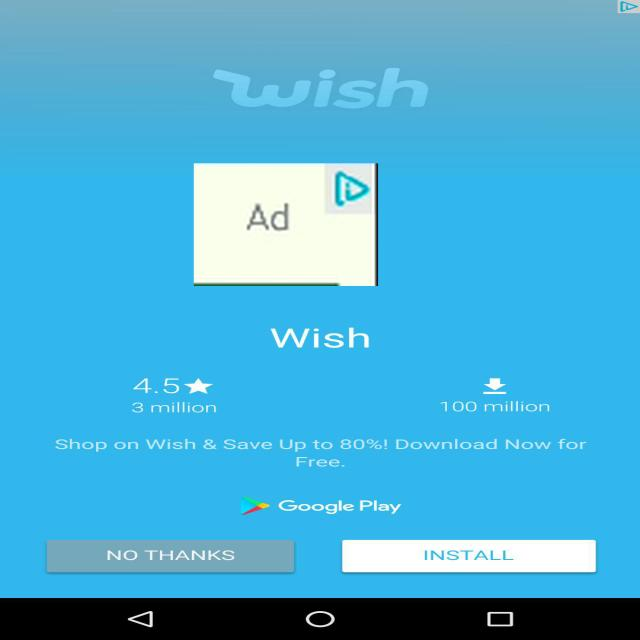sneaking: (194, 163, 378, 286)
